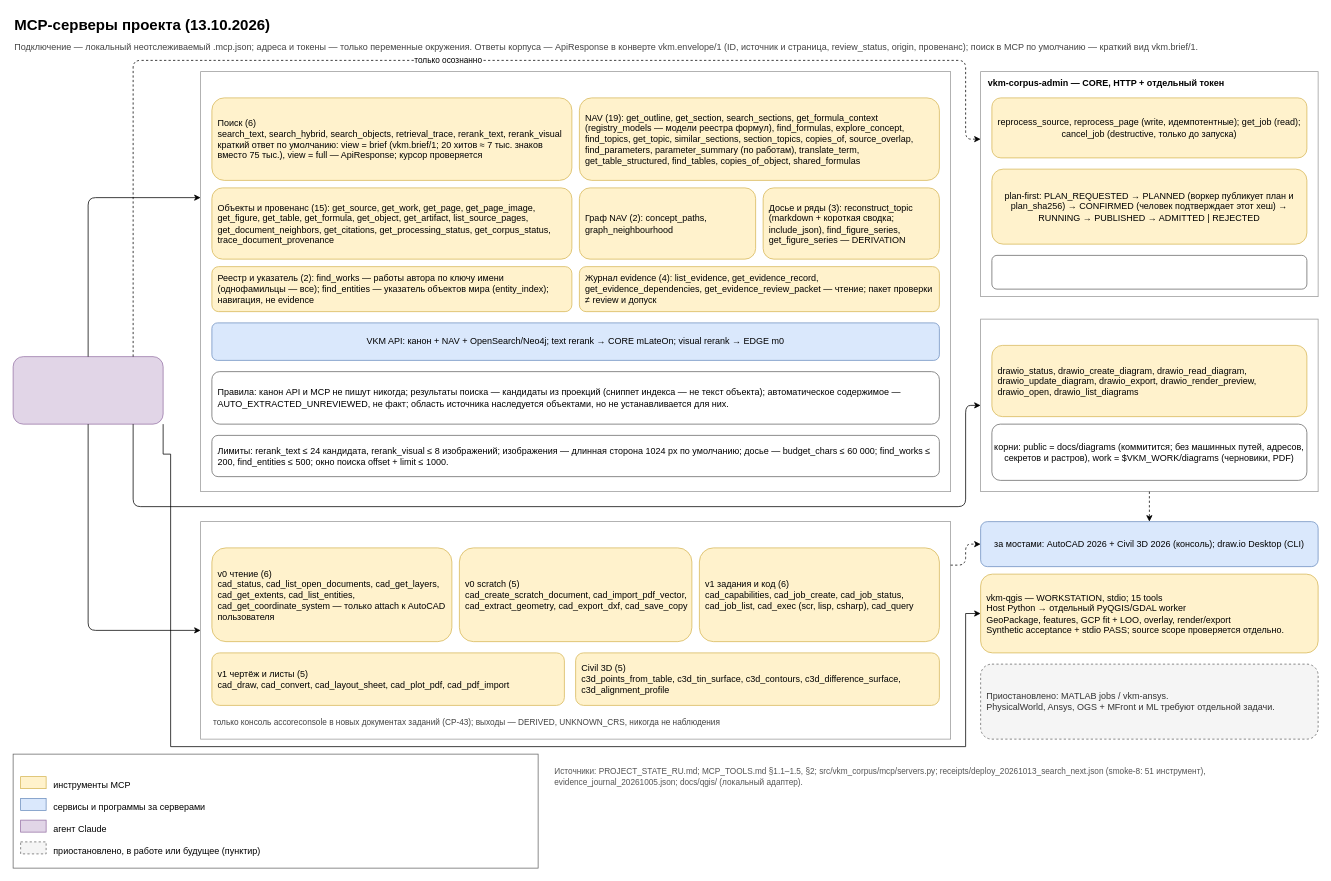
Some shapes in this 1331 by 881 pixel diagram are drawn without their labels. Here are the shapes that lost their labels. From the top down, the box of each, then its label:
(200, 71, 951, 492): vkm-corpus — CORE: 51 read-only инструмент (smoke-8 51/51)
(991, 255, 1307, 289): подключается только осознанно; ≤ 20 заданий на страницы и ≤ 3 на источники
(12, 356, 163, 424): Codex / Claude Code WORKSTATION
(980, 318, 1318, 492): vkm-drawio — WORKSTATION, stdio; 8 инструментов
(200, 521, 951, 739): vkm-cad 1.0 — WORKSTATION, stdio; 27 инструментов
(12, 753, 538, 868): Легенда
